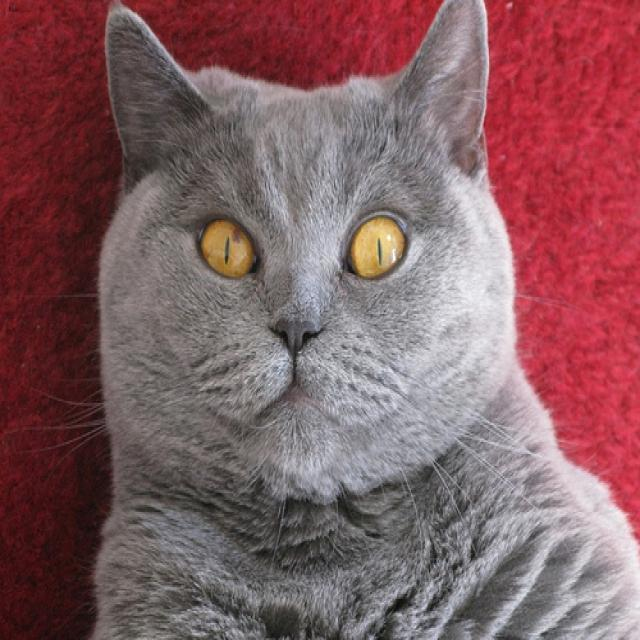British_Shorthair: (98, 2, 525, 536)
